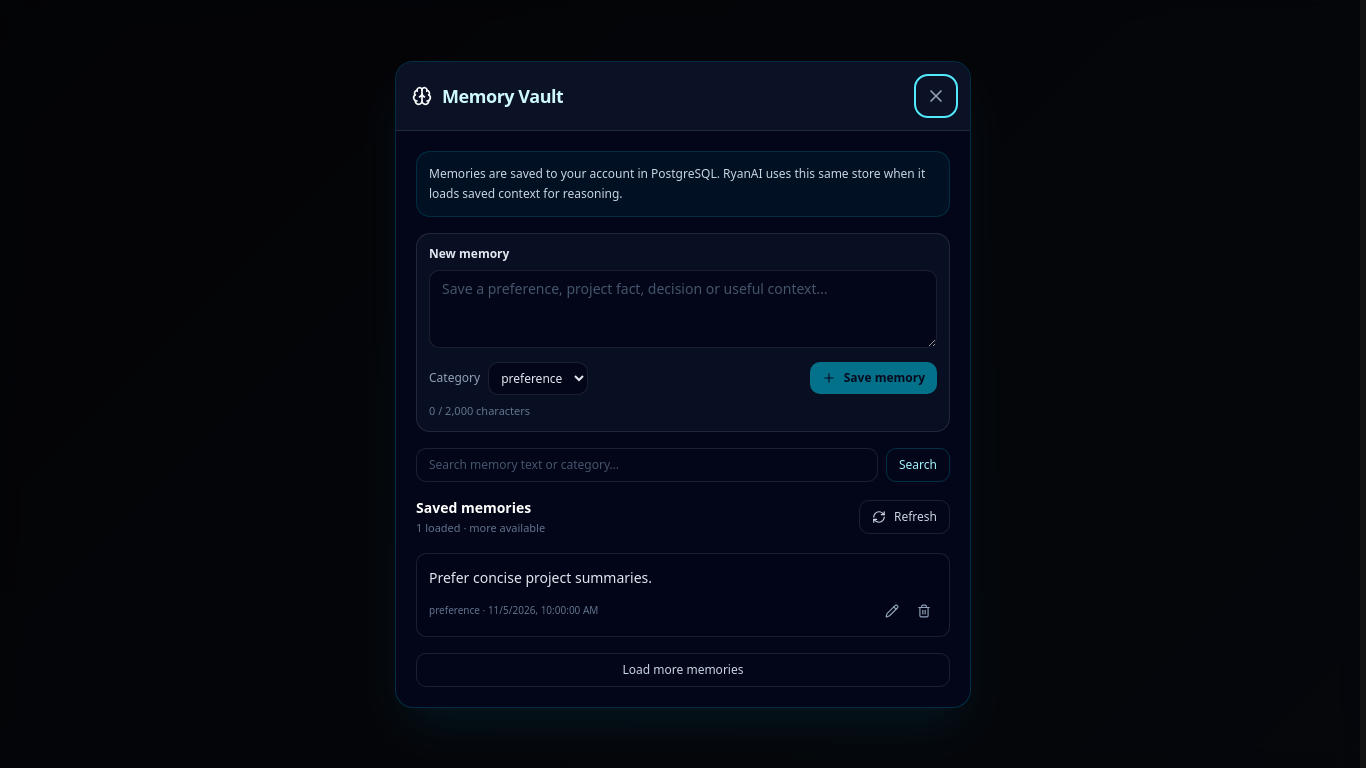
persistent Memory Vault › loads the next memory page without replacing the current page
This screenshot has width=1366, height=768.
Click the button "Load more memories" at point(683, 670), box [416,652,950,686]
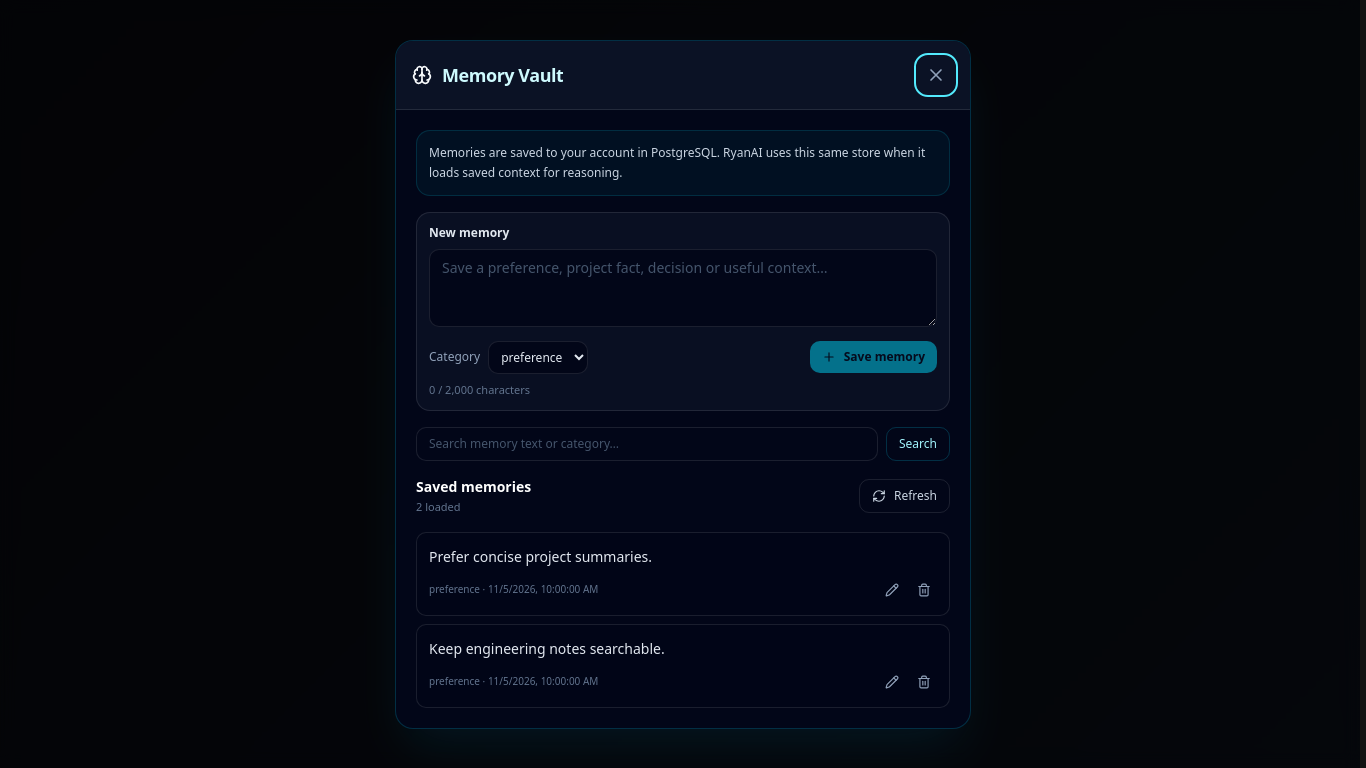
Expected: the text "Prefer concise project summaries." is shown, [429,546,652,566]
Expected: the text "Keep engineering notes searchable." is shown, [429,638,665,658]
